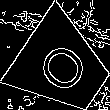O_SE: (31, 34, 95, 99)
